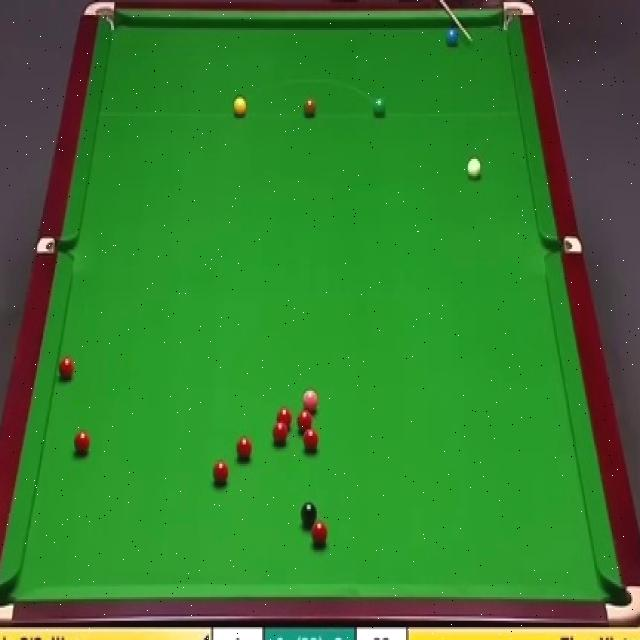black-ball: (300, 501, 318, 532)
blue-ball: (444, 24, 461, 50)
brown-ball: (303, 98, 317, 120)
green-ball: (372, 97, 387, 120)
pink-ball: (299, 387, 319, 414)
red-ball: (71, 426, 91, 458), (212, 461, 230, 490), (310, 521, 329, 547), (271, 422, 289, 447), (236, 435, 253, 461), (57, 356, 74, 382), (303, 427, 319, 452), (275, 407, 293, 429), (296, 411, 313, 432)
white-ball: (466, 155, 484, 181)
yellow-ball: (233, 96, 247, 118)
